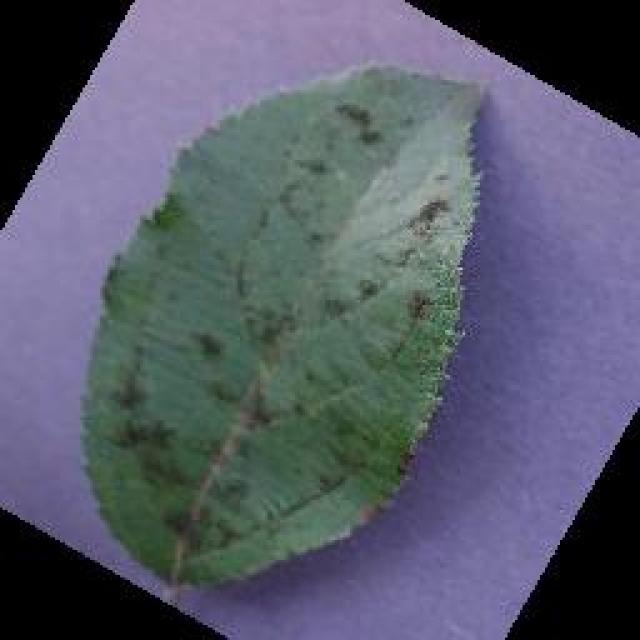apple scab disease: (75, 57, 487, 595)
